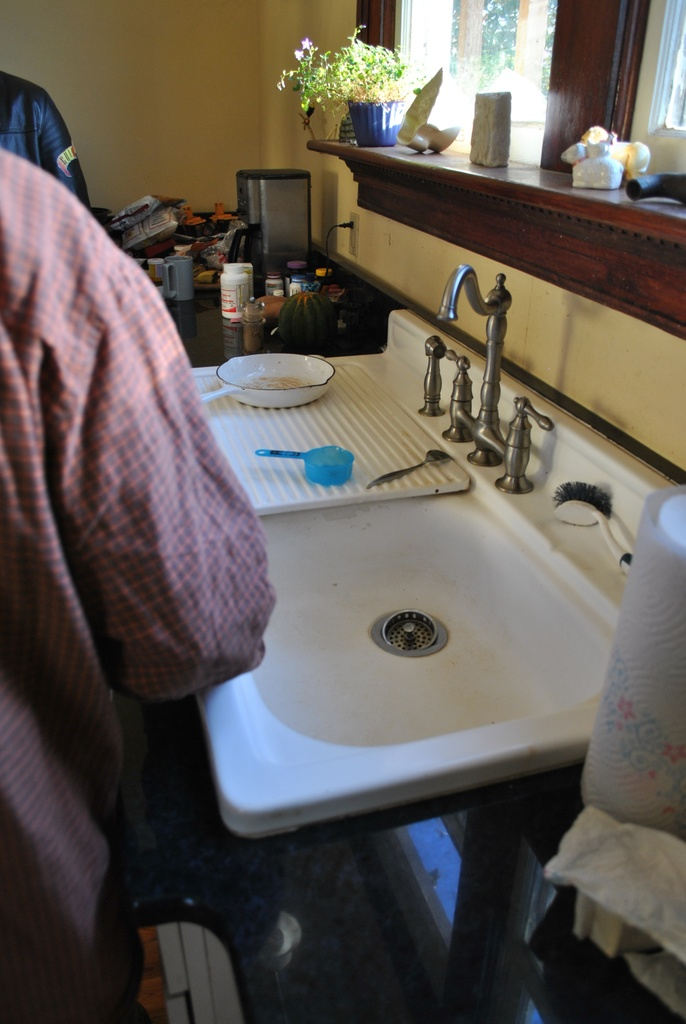tap: (406, 247, 558, 482)
